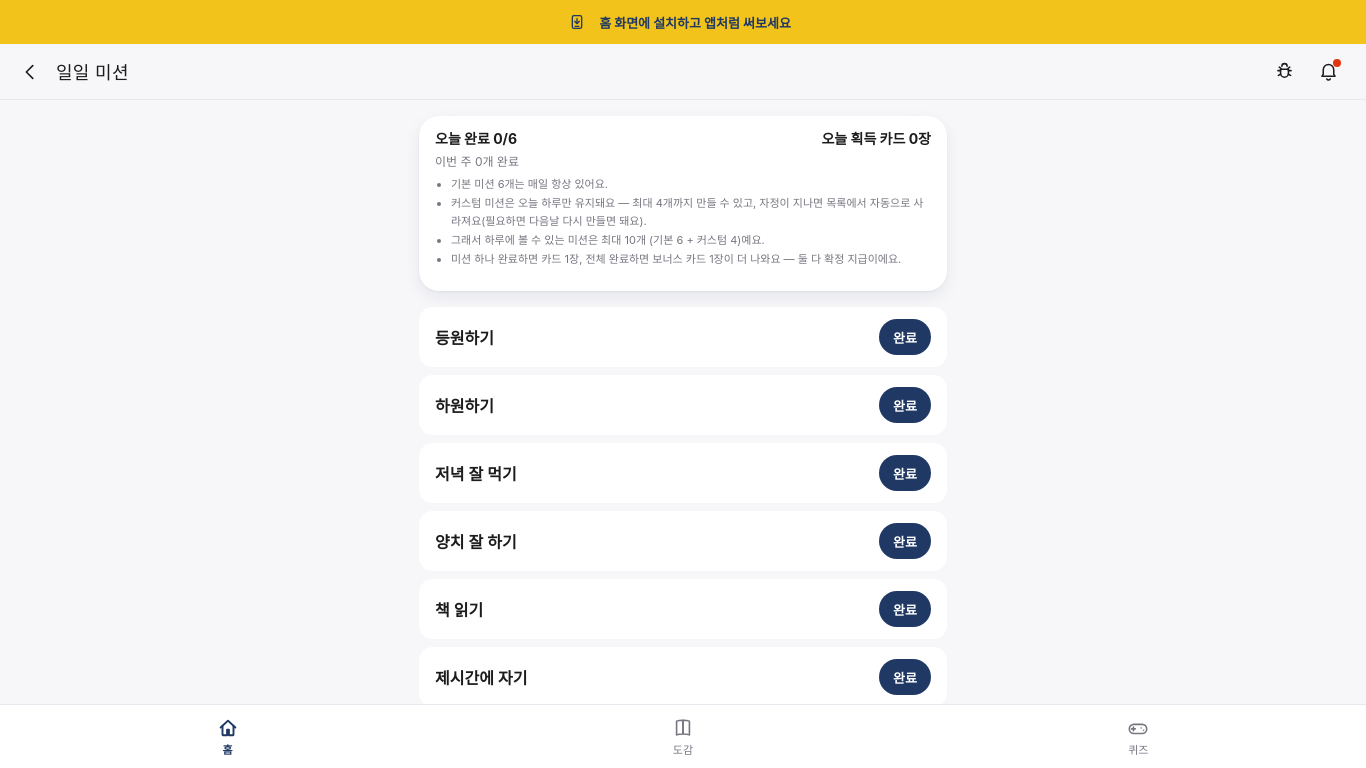
Test: DailyMission › 완료 → 확인 팝업 → 확인하면 미션이 완료 상태로 바뀐다
Expected: the text "등원하기" is shown, [435,328,494,348]
Step 1. Click the button "완료" in the row of "등원하기" → (905, 337), box [879,319,931,355]
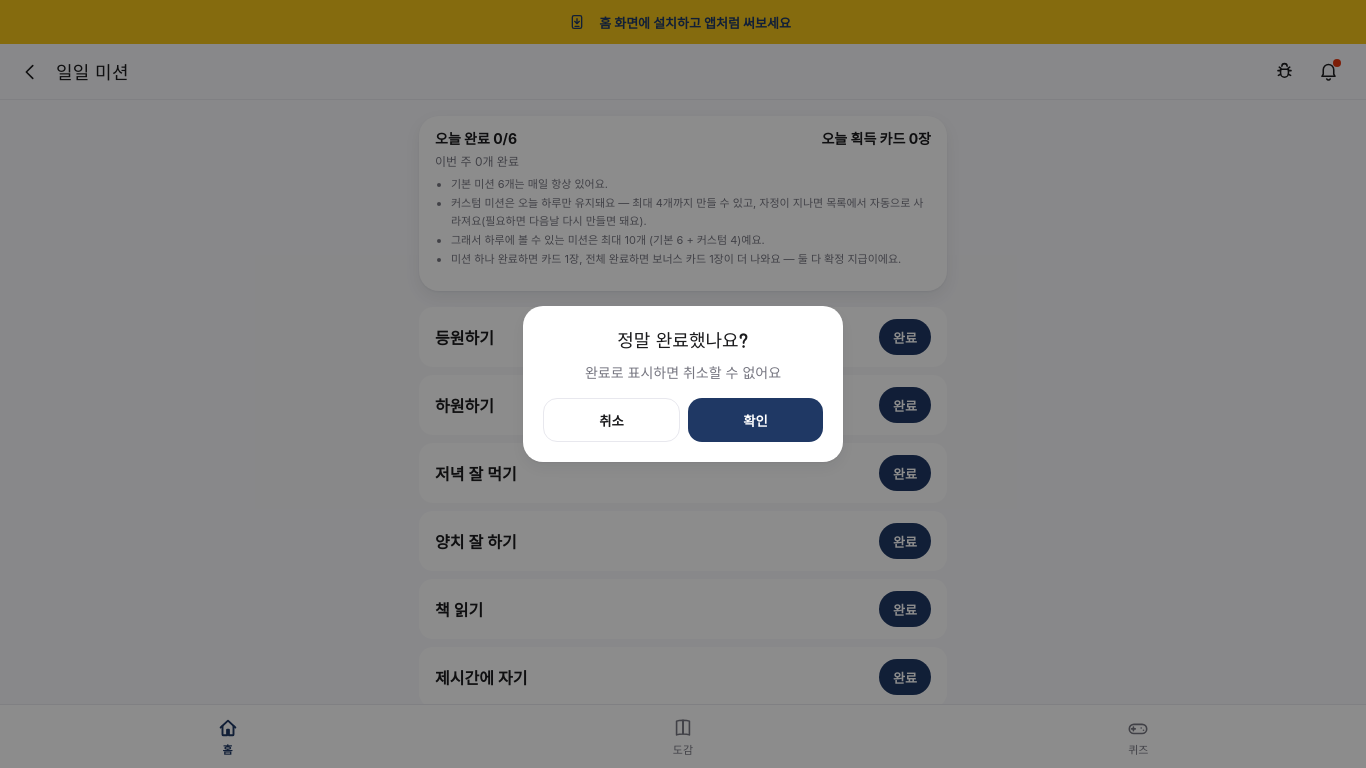
Result: the heading "정말 완료했나요?" is shown at [617,333,749,351]
Step 2. Click the button "확인" → (756, 420), box [688,398,823,442]
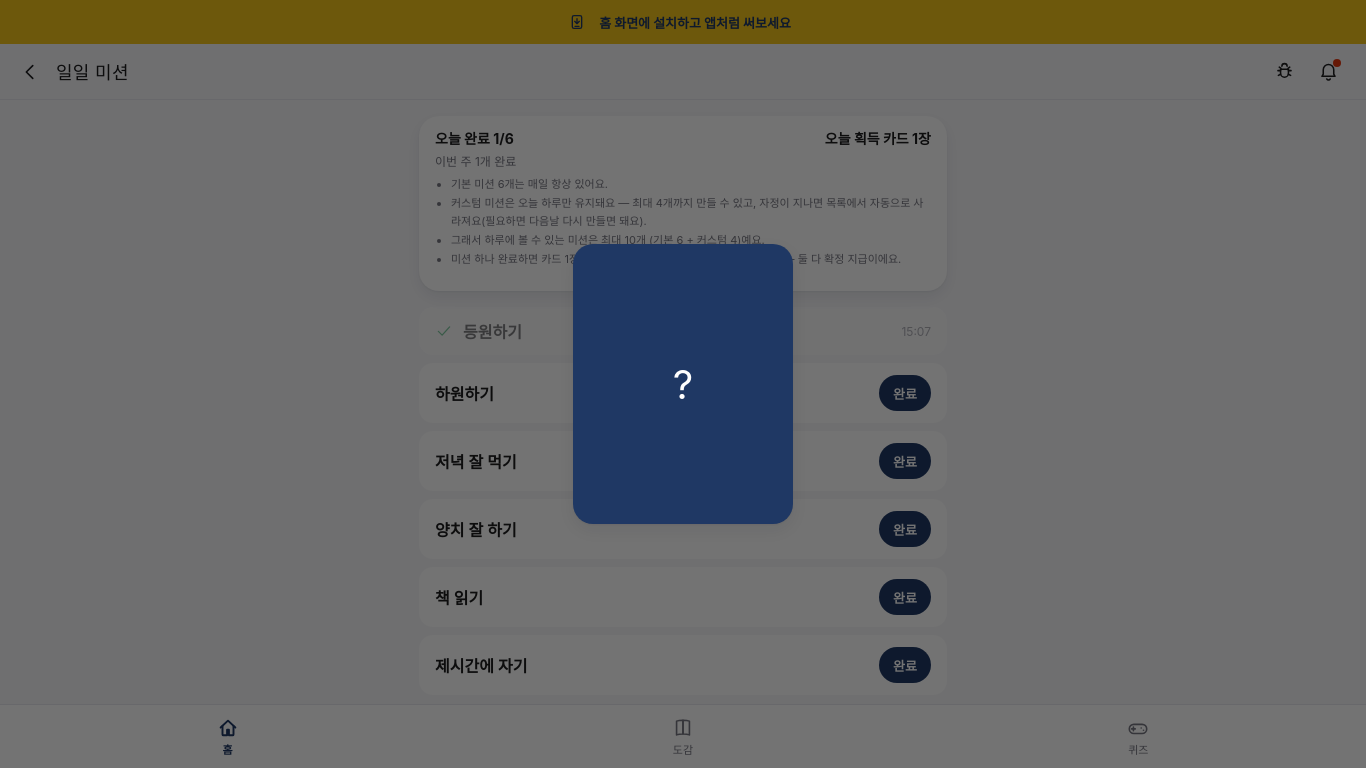
Result: the number of buttons "완료" is 5 at [879,375,931,411]; [879,443,931,479]; [879,511,931,547]; [879,579,931,615]; [879,647,931,683]
